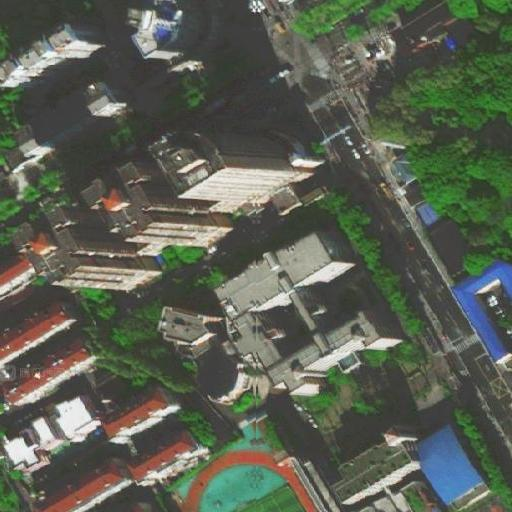building: (223, 228, 353, 324), (0, 395, 103, 477), (278, 322, 390, 396), (415, 422, 496, 510), (1, 24, 101, 89), (450, 257, 511, 362), (338, 441, 432, 509), (9, 336, 99, 405), (31, 90, 126, 155), (82, 218, 161, 295), (155, 176, 234, 253), (224, 128, 303, 205), (0, 301, 76, 366), (41, 463, 132, 512), (103, 385, 178, 442), (130, 430, 201, 485), (172, 399, 230, 457), (196, 338, 250, 400), (287, 452, 342, 511), (162, 300, 222, 347), (292, 287, 338, 348), (0, 289, 57, 336), (395, 160, 432, 207), (0, 253, 35, 298), (12, 209, 49, 245), (271, 188, 306, 224), (3, 139, 36, 172), (417, 201, 444, 229), (301, 193, 330, 218)
